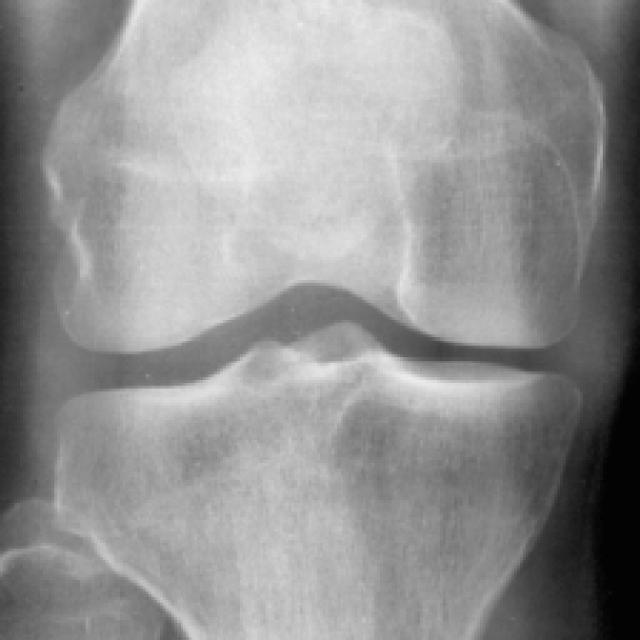femur: (46, 1, 600, 353)
tibia: (52, 326, 571, 637)
